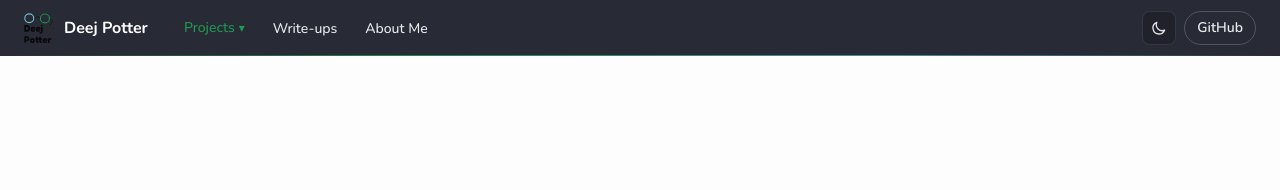
Test case: TopNavbar › opens the Projects dropdown on click and shows the expected categories
The image size is (1280, 190).
Step 1. Click the button "Projects ▾" → click(214, 28), box [172,10,257,46]
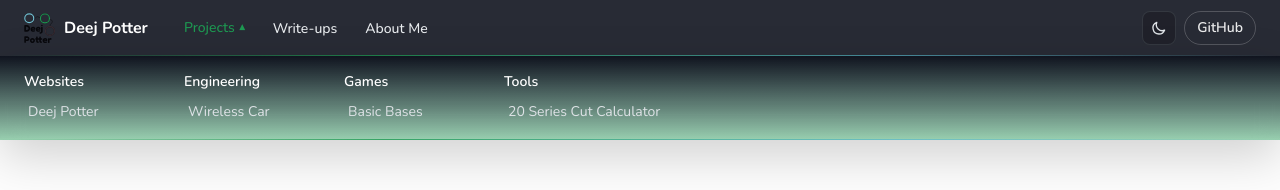
Result: the link "Websites" is shown at [24,72,84,91]
Result: the link "Engineering" is shown at [184,72,260,91]
Result: the link "Games" is shown at [344,72,388,91]
